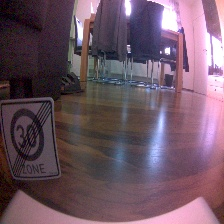dreisiger_zone_ende: (1, 95, 60, 183)
